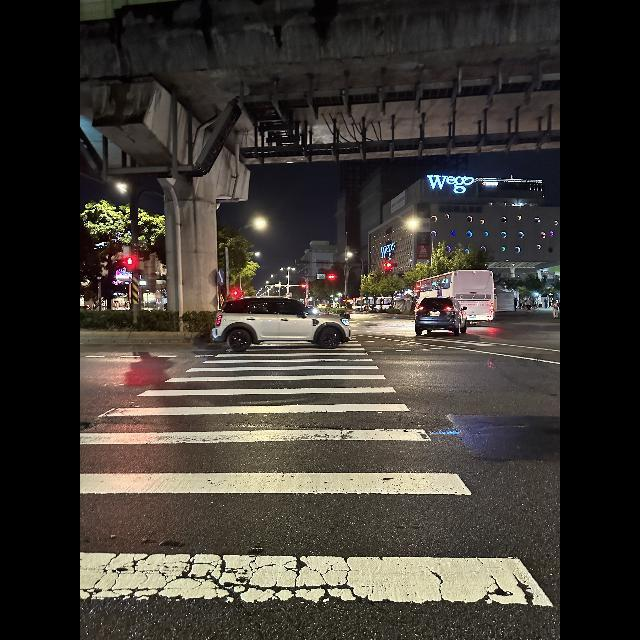sidewalk: (80, 326, 557, 611)
